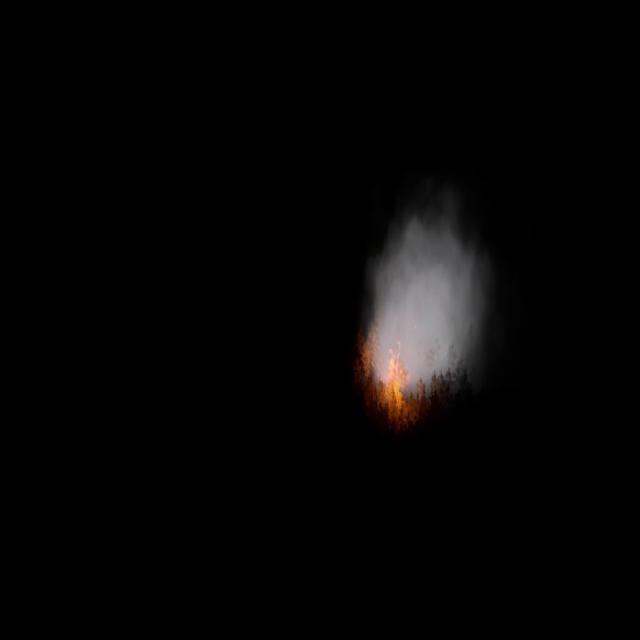fire: (386, 340, 408, 400)
smoke: (361, 184, 493, 407)
